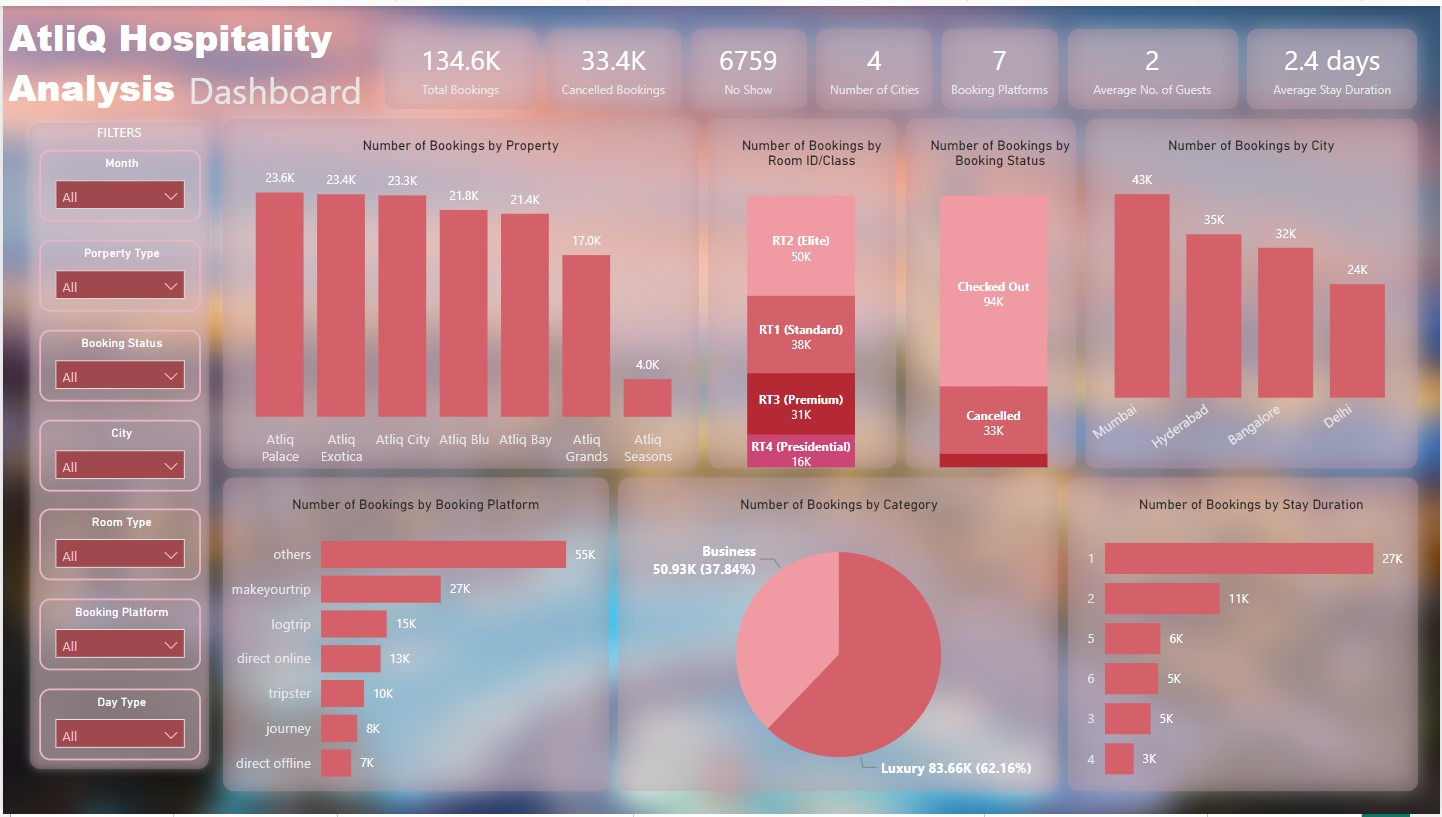

The page's visual inventory and layout, read from the dashboard file:
{"tool":"powerbi","page":{"name":"General Analysis","canvas":[1280,720],"ordinal":0},"visuals":[{"type":"shape","title":"Filters","box":[1088,0,192,112],"z":0},{"type":"shape","title":"Filters","box":[928,400,352,320],"z":1000},{"type":"shape","title":"Filters","box":[528,400,432,320],"z":2000},{"type":"shape","title":"Filters","box":[608,80,208,352],"z":3000},{"type":"shape","title":"Filters","box":[784,80,192,352],"z":4000},{"type":"shape","title":"Filters","box":[176,400,384,320],"z":5000},{"type":"shape","title":"Filters","box":[944,80,336,352],"z":6000},{"type":"shape","title":"Filters","box":[176,80,464,352],"z":7000},{"type":"textbox","box":[0,0,336,112],"z":8000},{"type":"barChart","title":"Number of Bookings by Booking Platform","fields":{"Category":["bookings.booking_platform"],"Y":["CountNonNull(bookings.booking_id)"]},"box":[192,432,352,272],"z":9000},{"type":"columnChart","title":"Number of Bookings by Booking Status","fields":{"Series":["bookings.booking_status"],"Y":["CountNonNull(bookings.booking_id)"]},"box":[816,112,144,304],"z":10000},{"type":"columnChart","title":"Number of Bookings by Room ID/Class","fields":{"Series":["bookings.room_id_class"],"Y":["CountNonNull(bookings.booking_id)"]},"box":[640,112,160,304],"z":11000},{"type":"columnChart","title":"Number of Bookings by City","fields":{"Category":["agg_book.city"],"Y":["CountNonNull(bookings.booking_id)"]},"box":[960,112,304,304],"z":12000},{"type":"shape","title":"Filters","box":[16,96,176,592],"z":13000},{"type":"slicer","title":"City","fields":{"Values":["agg_book.city"]},"box":[32,368,144,64],"z":14000},{"type":"slicer","title":"Porperty Type","fields":{"Values":["agg_book.property_name"]},"box":[32,208,144,64],"z":15000},{"type":"slicer","title":"Booking Platform","fields":{"Values":["bookings.booking_platform"]},"box":[32,528,144,64],"z":16000},{"type":"slicer","title":"Month","fields":{"Values":["agg_book.Month"]},"box":[32,128,144,64],"z":17000},{"type":"slicer","title":"Day Type","fields":{"Values":["agg_book.day_type"]},"box":[32,608,144,64],"z":18000},{"type":"slicer","title":"Booking Status","fields":{"Values":["bookings.booking_status"]},"box":[32,288,144,64],"z":19000},{"type":"columnChart","title":"Number of Bookings by Property","fields":{"Category":["agg_book.property_name"],"Y":["CountNonNull(bookings.booking_id)"]},"box":[192,112,432,304],"z":20000},{"type":"slicer","title":"Room Type","fields":{"Values":["agg_book.room_id_class"]},"box":[32,448,144,64],"z":21000},{"type":"textbox","box":[160,48,192,64],"z":22000},{"type":"shape","title":"Filters","box":[928,0,192,112],"z":23000},{"type":"barChart","title":"Number of Bookings by Stay Duration","fields":{"Y":["CountNonNull(bookings.booking_id)"],"Category":["bookings.Stay duration"]},"box":[960,432,304,272],"z":24000},{"type":"pieChart","title":"Number of Bookings by Category","fields":{"Category":["agg_book.category"],"Y":["CountNonNull(bookings.booking_id)"]},"box":[544,432,400,272],"z":25000},{"type":"card","fields":{"Values":["agg_book.Average Stay Duration"]},"box":[1120,16,128,80],"z":26000},{"type":"shape","title":"Filters","box":[816,0,144,112],"z":27000},{"type":"card","fields":{"Values":["agg_book.Average Number of Guests"]},"box":[960,16,128,80],"z":28000},{"type":"shape","title":"Filters","box":[320,0,176,112],"z":29000},{"type":"shape","title":"Filters","box":[464,0,160,112],"z":30000},{"type":"shape","title":"Filters","box":[592,0,144,112],"z":31000},{"type":"card","fields":{"Values":["bookings.Total Cancelled Bookings"]},"box":[480,16,128,80],"z":32000},{"type":"card","fields":{"Values":["bookings.Total Bookings"]},"box":[352,16,112,80],"z":33000},{"type":"card","fields":{"Values":["agg_book.Booking Platforms"]},"box":[832,16,112,80],"z":34000},{"type":"card","fields":{"Values":["bookings.No Show"]},"box":[608,16,112,80],"z":35000},{"type":"shape","title":"Filters","box":[704,0,144,112],"z":36000},{"type":"card","fields":{"Values":["agg_book.Number of Cities"]},"box":[720,16,112,80],"z":37000}]}

Visuals, with their boxes in screenshot pixels (x1, y1, x2, y2), scaled from the page's 1280x720 canvas onto the 1442x817 screenshot:
"Filters" shape: <box>1226,0,1441,127</box>
"Filters" shape: <box>1045,454,1441,816</box>
"Filters" shape: <box>595,454,1082,816</box>
"Filters" shape: <box>685,91,919,490</box>
"Filters" shape: <box>883,91,1100,490</box>
"Filters" shape: <box>198,454,631,816</box>
"Filters" shape: <box>1063,91,1441,490</box>
"Filters" shape: <box>198,91,721,490</box>
textbox: <box>0,0,379,127</box>
"Number of Bookings by Booking Platform" barChart: <box>216,490,613,799</box>
"Number of Bookings by Booking Status" columnChart: <box>919,127,1082,472</box>
"Number of Bookings by Room ID/Class" columnChart: <box>721,127,901,472</box>
"Number of Bookings by City" columnChart: <box>1082,127,1424,472</box>
"Filters" shape: <box>18,109,216,781</box>
"City" slicer: <box>36,418,198,490</box>
"Porperty Type" slicer: <box>36,236,198,309</box>
"Booking Platform" slicer: <box>36,599,198,672</box>
"Month" slicer: <box>36,145,198,218</box>
"Day Type" slicer: <box>36,690,198,763</box>
"Booking Status" slicer: <box>36,327,198,399</box>
"Number of Bookings by Property" columnChart: <box>216,127,703,472</box>
"Room Type" slicer: <box>36,508,198,581</box>
textbox: <box>180,54,397,127</box>
"Filters" shape: <box>1045,0,1262,127</box>
"Number of Bookings by Stay Duration" barChart: <box>1082,490,1424,799</box>
"Number of Bookings by Category" pieChart: <box>613,490,1063,799</box>
card - agg_book.Average Stay Duration: <box>1262,18,1406,109</box>
"Filters" shape: <box>919,0,1082,127</box>
card - agg_book.Average Number of Guests: <box>1082,18,1226,109</box>
"Filters" shape: <box>360,0,559,127</box>
"Filters" shape: <box>523,0,703,127</box>
"Filters" shape: <box>667,0,829,127</box>
card - bookings.Total Cancelled Bookings: <box>541,18,685,109</box>
card - bookings.Total Bookings: <box>397,18,523,109</box>
card - agg_book.Booking Platforms: <box>937,18,1063,109</box>
card - bookings.No Show: <box>685,18,811,109</box>
"Filters" shape: <box>793,0,955,127</box>
card - agg_book.Number of Cities: <box>811,18,937,109</box>
